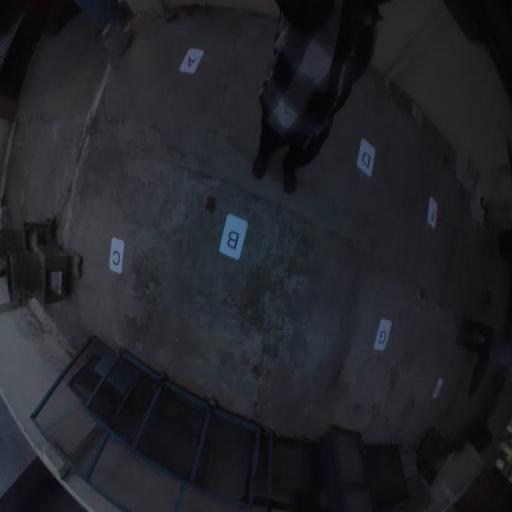A: (178, 48, 204, 75)
B: (218, 214, 248, 260)
C: (110, 238, 124, 273)
D: (356, 139, 375, 177)
F: (428, 196, 438, 230)
G: (374, 318, 392, 351)
